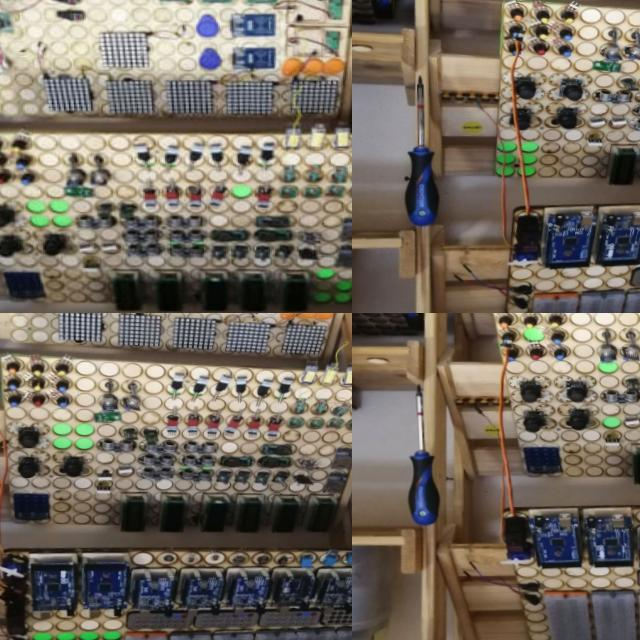Green-circles: (21, 623, 121, 640), (48, 419, 97, 453), (21, 196, 69, 230), (496, 138, 532, 177), (312, 276, 352, 299), (520, 322, 544, 341), (229, 180, 252, 198), (595, 357, 616, 375), (315, 263, 334, 280), (599, 412, 619, 427)
